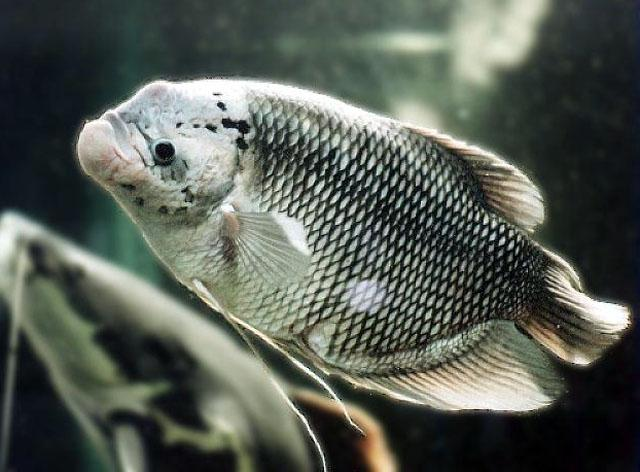Mulut: (66, 81, 152, 191)
Sirip Anal: (348, 305, 584, 435)
Sirip Dada: (208, 192, 329, 314)
Sirip Ekor: (513, 230, 635, 386)
Sirip Punggung: (386, 100, 558, 258)
